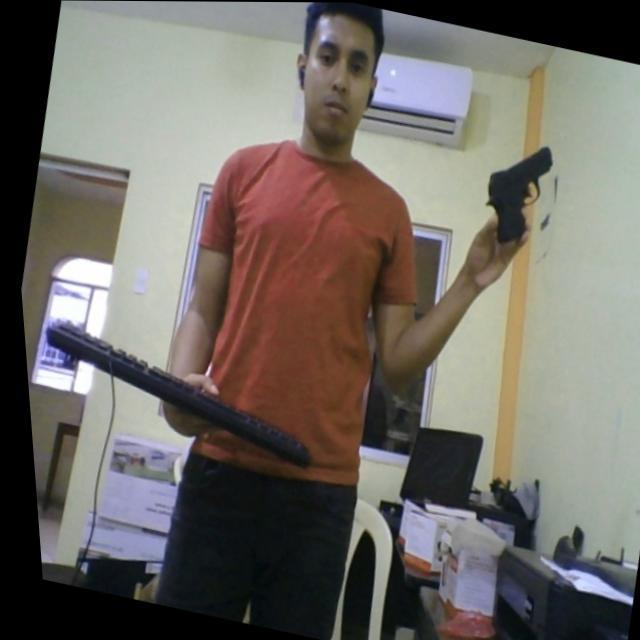weapon: (464, 130, 561, 256)
